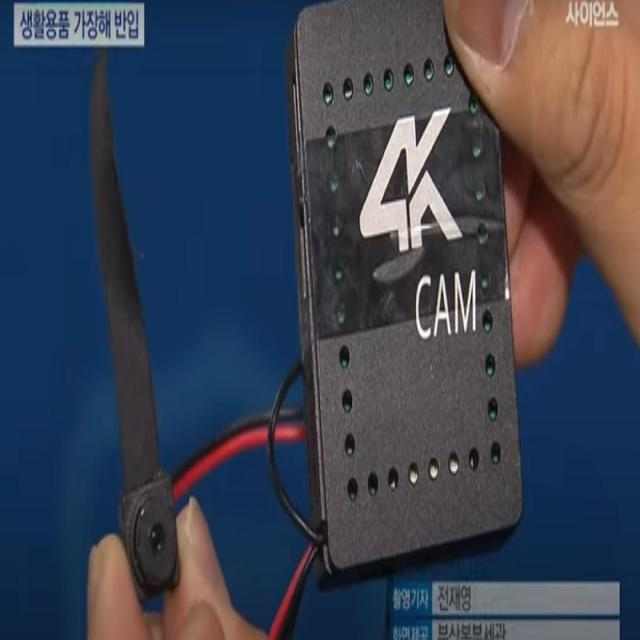hidden camera: (148, 522, 165, 555)
